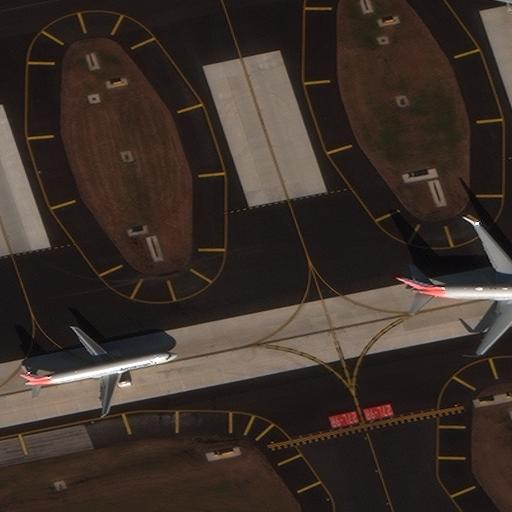Large Civil Transport: (395, 222, 511, 355)
Medium Civil Transport: (19, 326, 176, 413)
